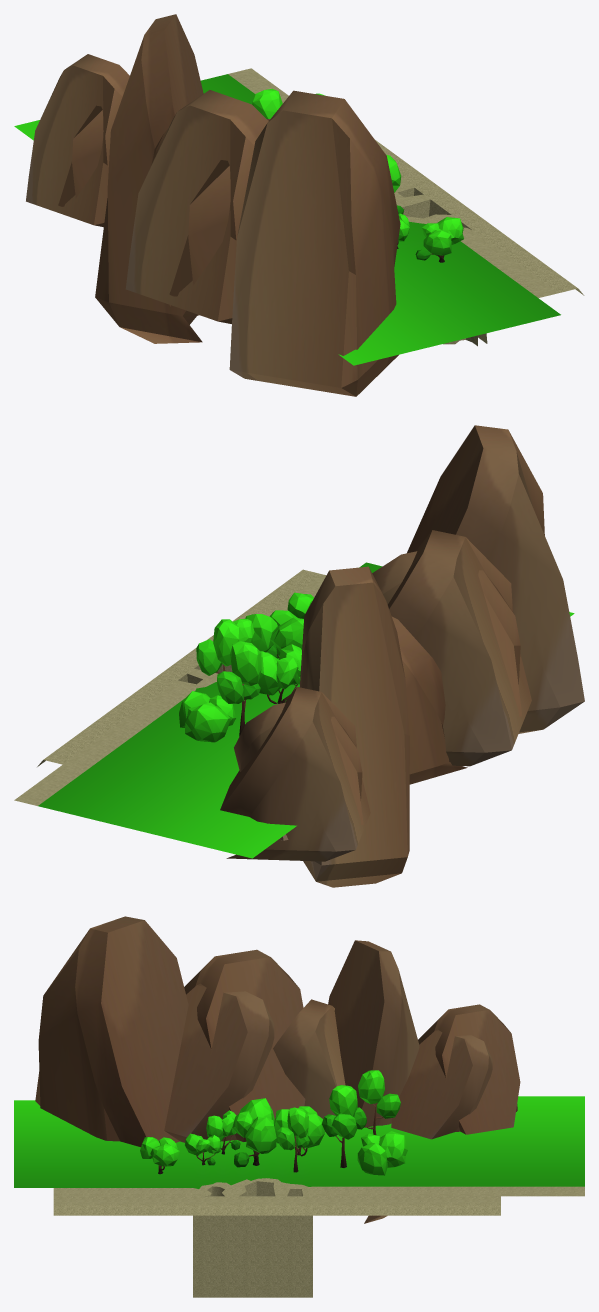
File: Background.fbx
3 views of the same model, one above another, from view 1: azimuth 30°, elevation 25°; view 2: azimuth 150°, elevation 25°; view 3: azimuth 270°, elevation 25° (orthographic). The views are drawn at different scales.
Visible parts, largest first — view 1: Background; view 2: Background; view 3: Background.
Part boxes in pixels (<box>): Background: <box>14,14,584,396</box>; Background: <box>14,425,584,887</box>; Background: <box>14,916,584,1297</box>.
Bounding box in the file's own units: 6176 × 5944 × 10487.
Materials: 3 (3 with a texture image).
